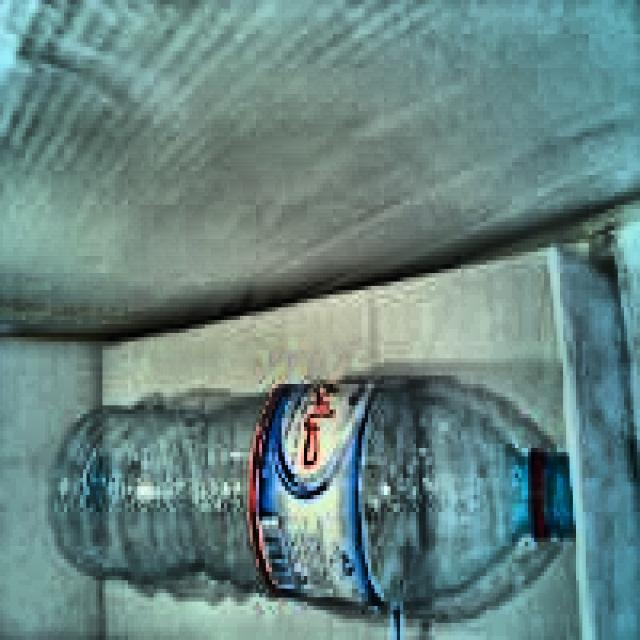plastic bottle: (54, 384, 571, 608)
